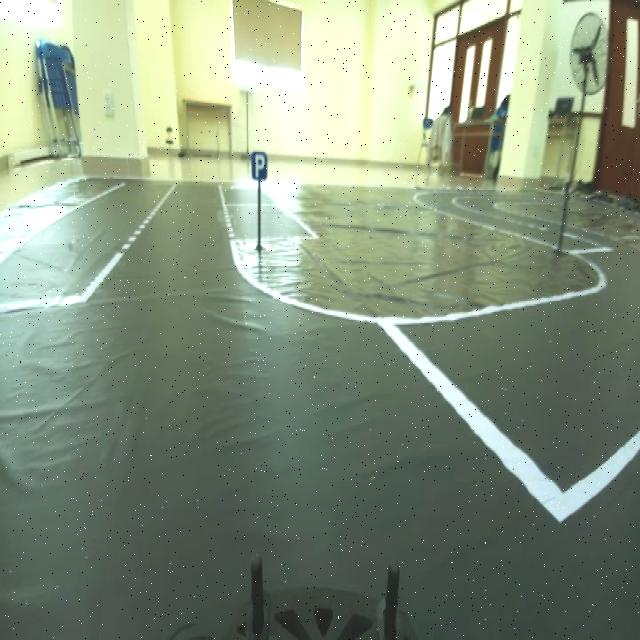parking: (246, 142, 271, 186)
